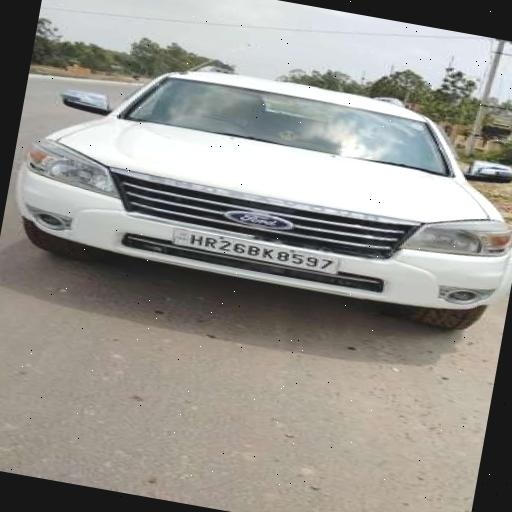license_plate`: (170, 224, 339, 273)
